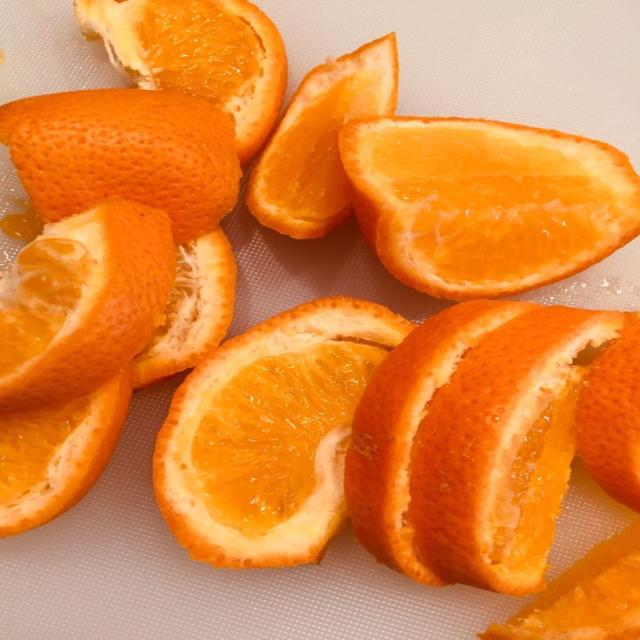orange: (153, 297, 416, 568), (408, 308, 623, 594), (339, 116, 639, 299), (75, 0, 286, 162), (76, 0, 286, 162), (400, 0, 555, 10), (3, 0, 75, 12), (0, 0, 17, 41)
